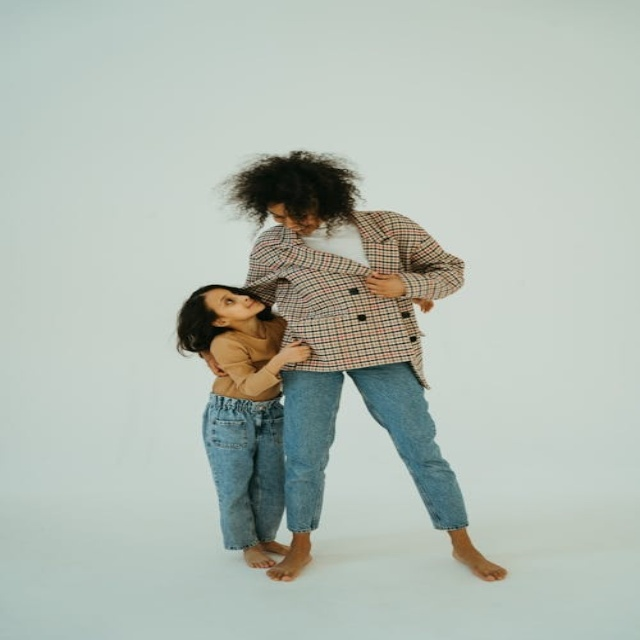Sin_gafas: (215, 288, 238, 312), (268, 209, 284, 222)
Sin_guantes: (364, 272, 407, 299), (412, 297, 434, 313)
Sin_mascara: (284, 225, 306, 240)
